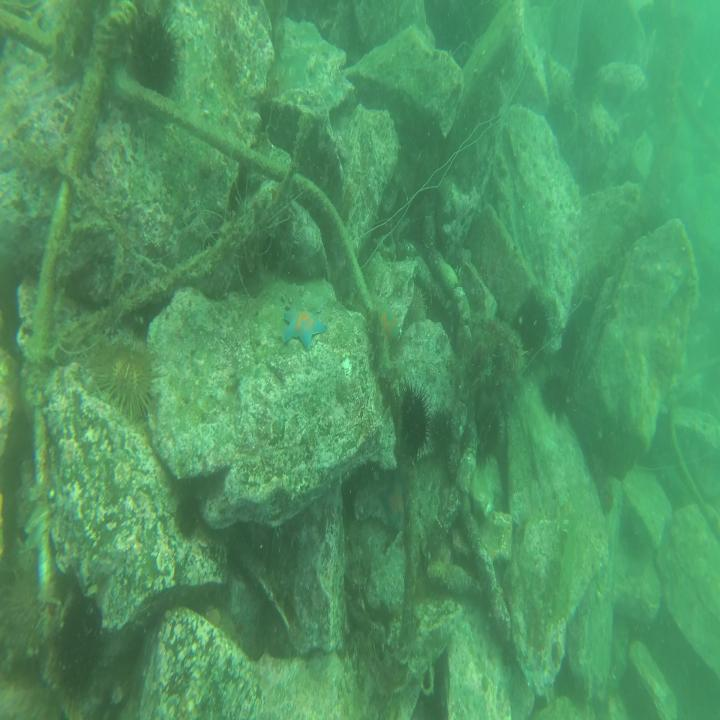echinus: (56, 591, 103, 707), (94, 336, 156, 420), (126, 9, 180, 98), (2, 569, 48, 657), (398, 380, 432, 457), (515, 289, 547, 357), (473, 400, 505, 463), (425, 402, 457, 460), (571, 53, 604, 108), (540, 366, 571, 418)
starfish: (284, 302, 328, 354), (379, 480, 408, 531), (375, 300, 399, 347)
